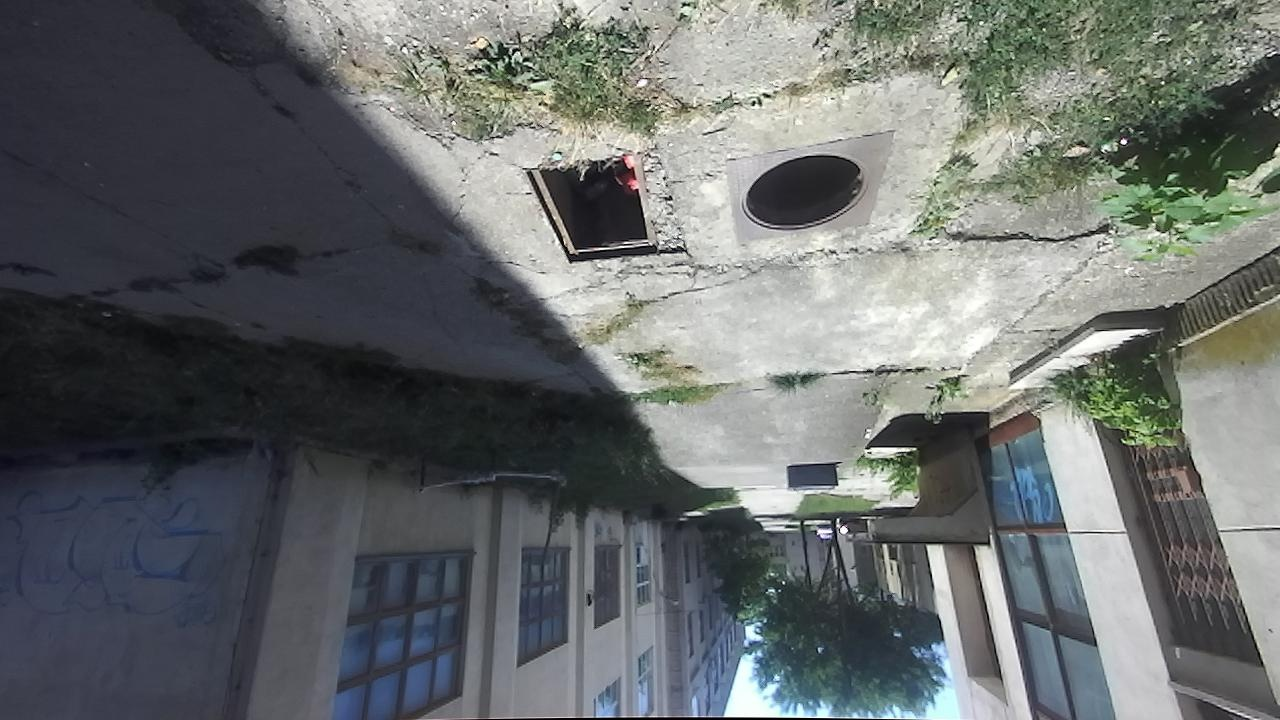drain: (519, 155, 667, 268), (735, 145, 872, 232)
